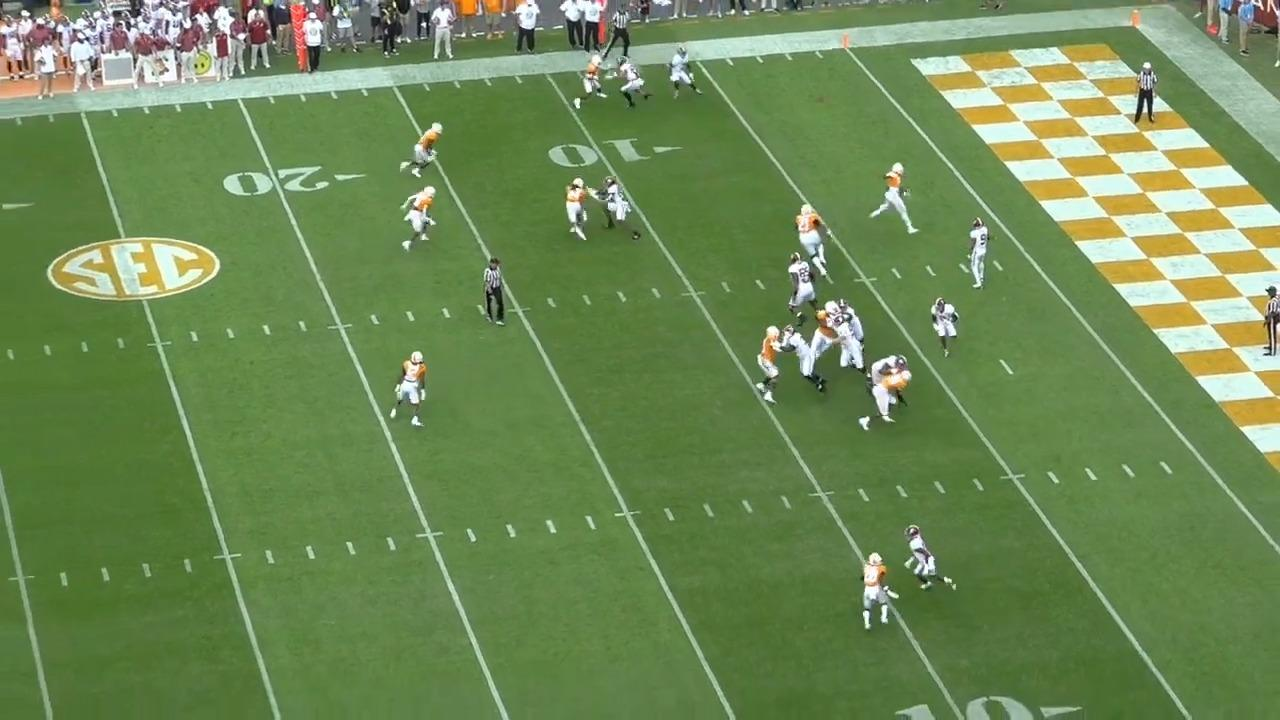defense: (854, 550, 897, 638), (871, 157, 919, 235), (856, 370, 915, 433), (389, 347, 432, 429), (749, 321, 789, 404), (792, 201, 835, 277), (401, 122, 448, 182), (403, 182, 441, 254), (573, 56, 617, 114), (566, 176, 602, 244), (810, 296, 847, 362)
oline: (775, 323, 829, 393), (780, 255, 822, 328), (828, 315, 871, 378), (868, 350, 910, 391), (837, 299, 865, 344)
qb: (966, 212, 996, 291)
ref: (479, 258, 509, 333), (1133, 59, 1162, 125), (605, 4, 633, 63), (1265, 286, 1280, 362)
skill: (901, 523, 957, 601), (601, 175, 647, 245), (930, 296, 966, 362), (663, 45, 704, 101), (619, 55, 655, 109)
